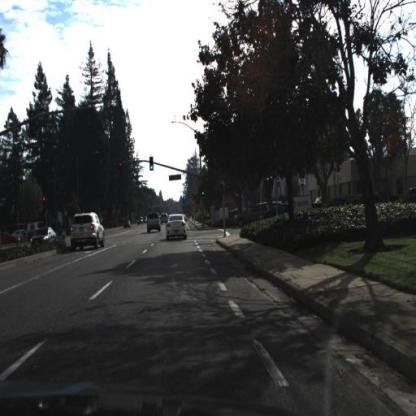car: (73, 213, 105, 249), (232, 205, 266, 228), (167, 213, 189, 242), (259, 204, 289, 225), (27, 217, 49, 242), (147, 213, 165, 235), (15, 229, 33, 242), (161, 209, 171, 223), (123, 221, 131, 229), (138, 218, 144, 226), (144, 216, 148, 224)
trafficLight-Green: (150, 157, 155, 173), (150, 157, 155, 172), (202, 186, 207, 198), (202, 189, 206, 203)
trafficLight-RedLeft: (43, 195, 48, 211), (120, 161, 125, 177), (43, 195, 48, 210), (119, 162, 123, 177)
truck: (25, 220, 45, 233)
